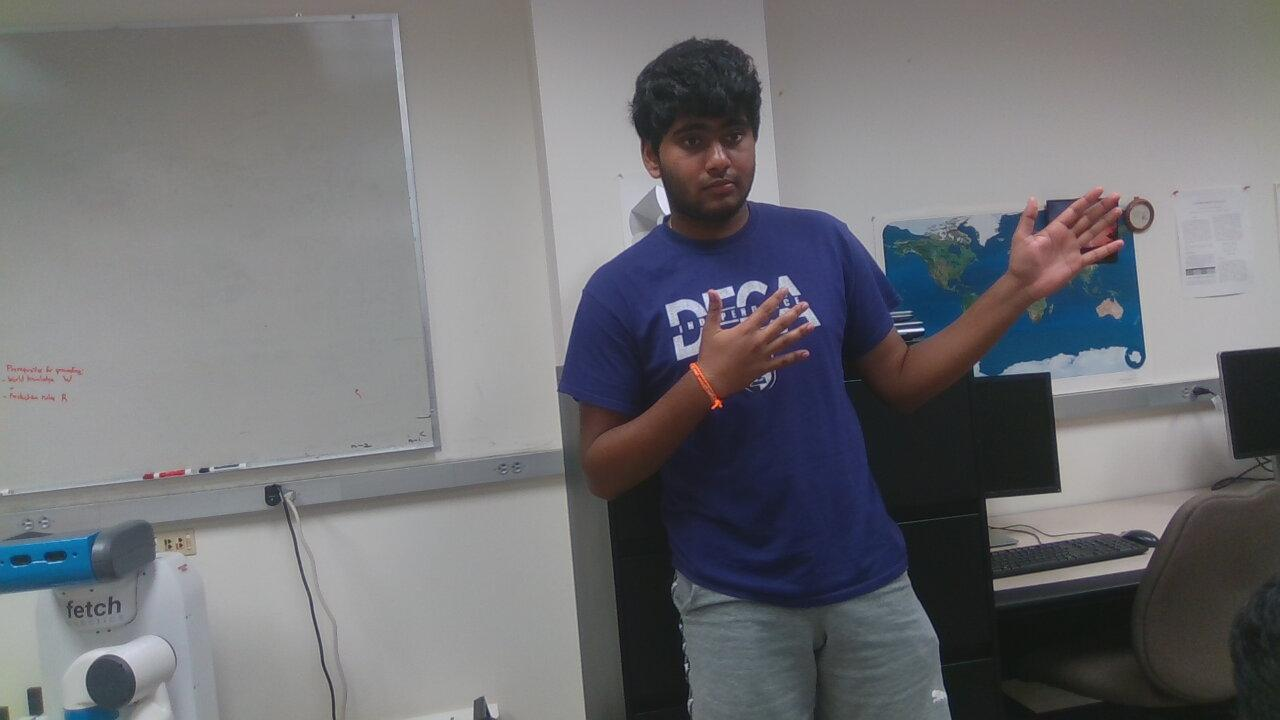hands: (678, 277, 824, 401), (996, 192, 1137, 293)
